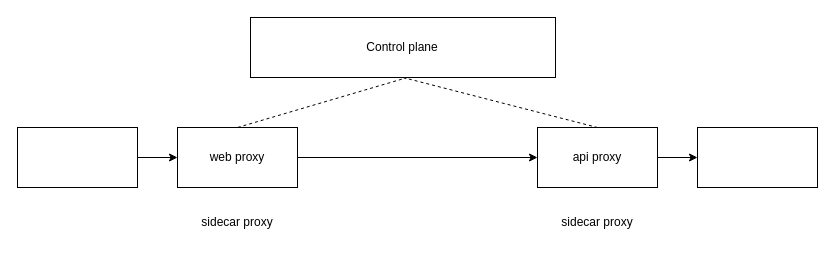
Some shapes in this 835 by 255 pixel diagram are drawn without their labels. Here are the shapes that lost their labels. From the top down, the box of each, then its label:
(16, 126, 138, 188): Frontend
(696, 126, 818, 188): api
